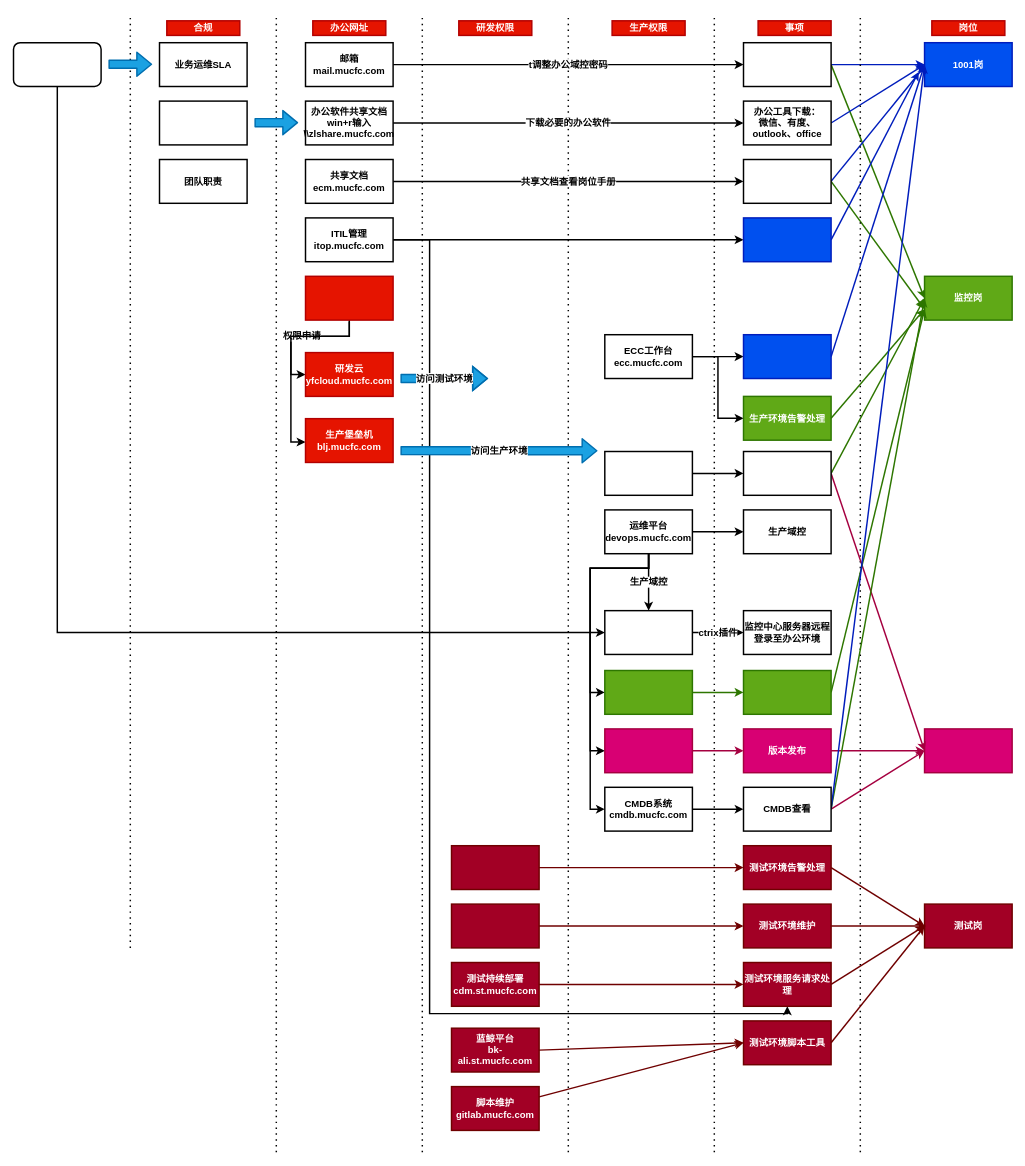
This 1025x1166 diagram has some shape labels left out. The box of each missing label's shape, as (x1, y1, x2, y2) in pixels:
OA office.mucfc.com: (304, 275, 393, 320)
事件记录: (742, 217, 831, 262)
办公域控: (742, 42, 831, 87)
发版岗: (923, 728, 1013, 773)
开始: (12, 42, 101, 87)
持续部署平台 cdm.mucfc.com: (604, 728, 693, 773)
掌握岗位职责和操作手册：1001岗、监控岗、发布岗、测试岗、资源岗: (742, 158, 831, 204)
故障报告记录和发布: (742, 334, 831, 379)
测试ECC工作台 ecc.st.mucfc.com: (450, 845, 539, 890)
测试jumpserver yfblj.mucfc.com: (450, 903, 539, 948)
生产jumpserver jump.mucfc.com: (604, 450, 693, 496)
生产事件管理规范: (158, 100, 247, 145)
生产环境查看: (742, 450, 831, 496)
监控平台 uwatch.mucfc.com: (604, 669, 693, 715)
监控配置: (742, 669, 831, 715)
远程登录办公环境 oactx.mucfc.com: (604, 610, 693, 655)
